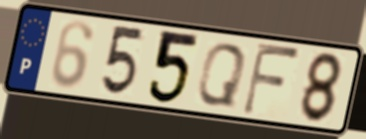5: (146, 29, 204, 107), (99, 23, 150, 99)
6: (48, 19, 95, 93)
8: (297, 50, 345, 126)
F: (239, 40, 302, 119)
Q: (194, 41, 249, 109)
